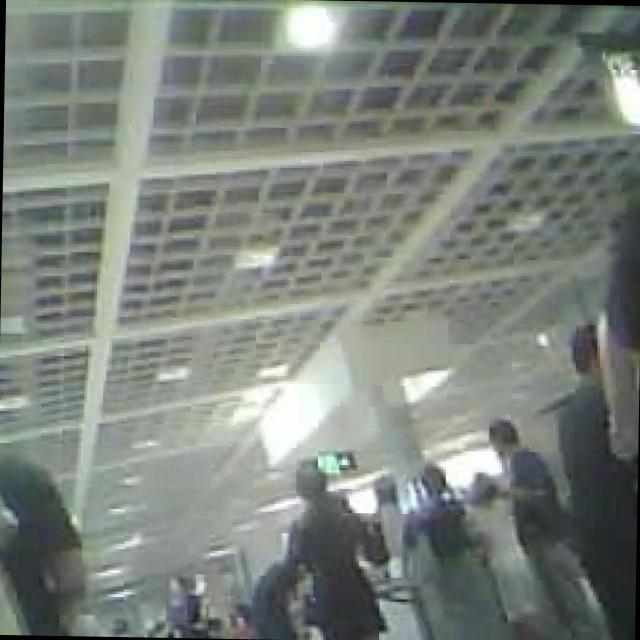person: (552, 328, 640, 638), (481, 416, 600, 640), (280, 457, 393, 640), (0, 452, 87, 636), (461, 466, 549, 640), (405, 464, 483, 640), (587, 194, 640, 451)
